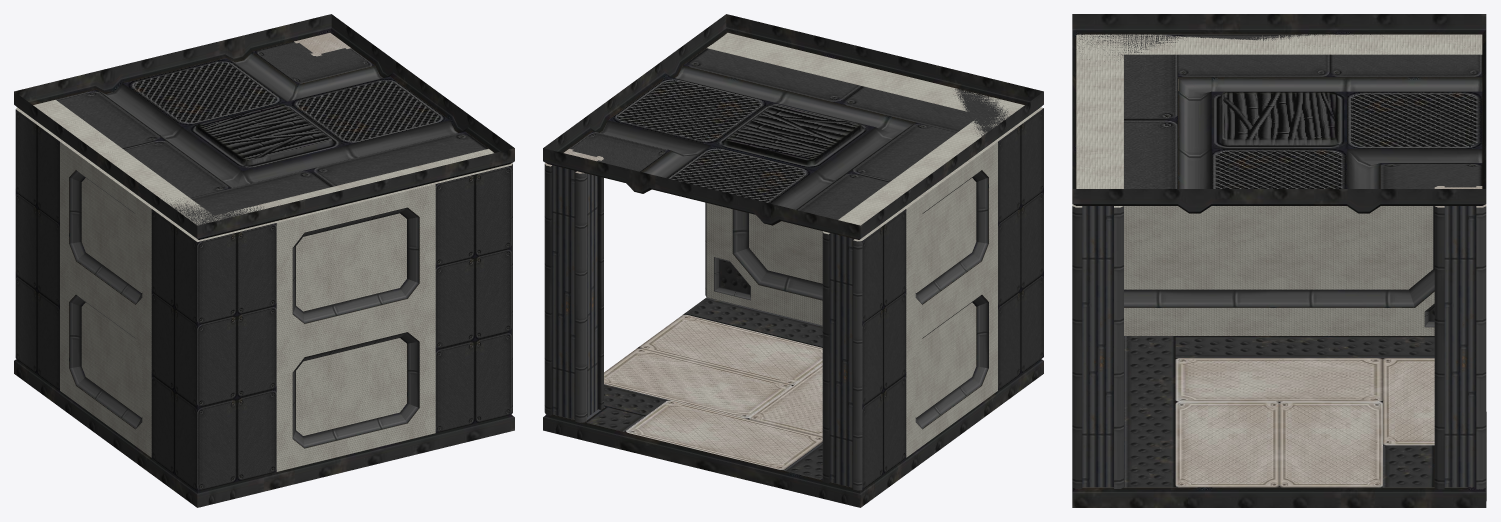
File: Corridor_Corner_Broken.fbx
The picture shows the model from 3 angles, left to right: view 1: azimuth 30°, elevation 25°; view 2: azimuth 150°, elevation 25°; view 3: azimuth 270°, elevation 25°; orthographic projection. The views are drawn at different scales.
Parts seen in each view (by area): view 1: Corridor_Corner_Broken; view 2: Corridor_Corner_Broken; view 3: Corridor_Corner_Broken.
Part boxes in pixels (x1=…): Corridor_Corner_Broken: x1=14, y1=14, x2=514, y2=507; Corridor_Corner_Broken: x1=543, y1=14, x2=1043, y2=507; Corridor_Corner_Broken: x1=1072, y1=14, x2=1486, y2=507.
Bounding box in the file's own units: 400 × 340 × 400.
